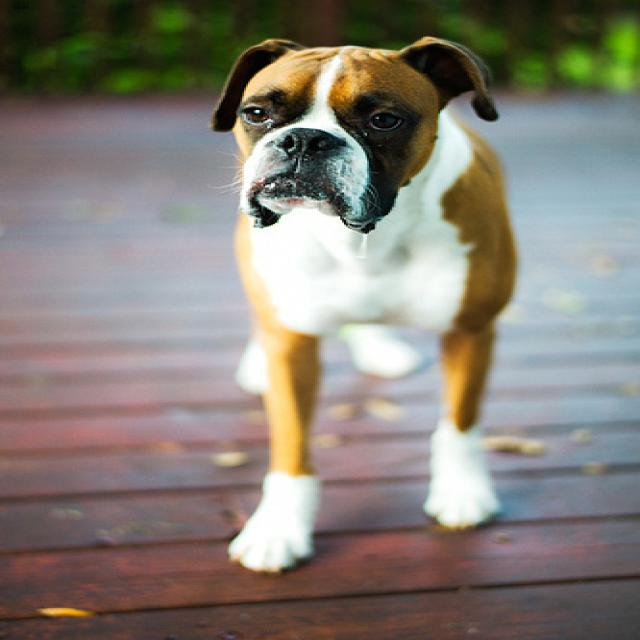dog-boxer: (194, 27, 536, 586)
